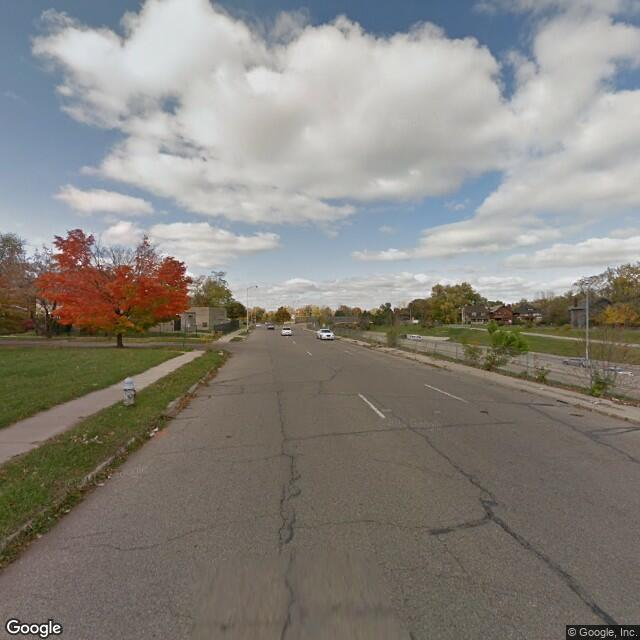litter: (147, 417, 160, 442), (218, 352, 222, 357), (539, 387, 546, 389)
